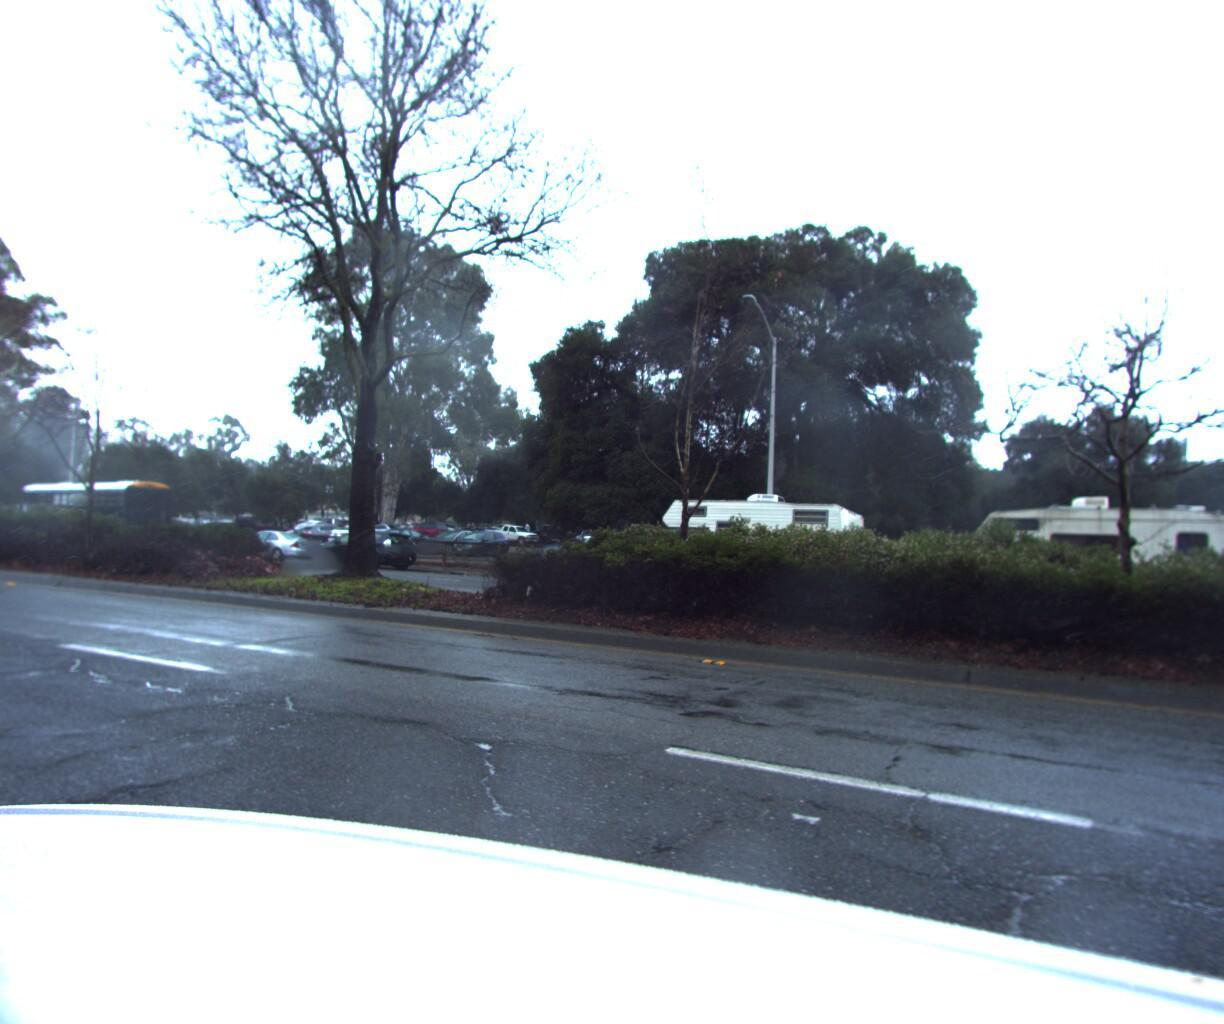bus: (4, 481, 183, 554)
car: (310, 529, 421, 577), (220, 529, 325, 569), (205, 513, 295, 545), (446, 529, 523, 561), (322, 524, 401, 553), (285, 523, 364, 551)
other_vehicle: (952, 488, 1224, 633), (650, 489, 873, 603)
